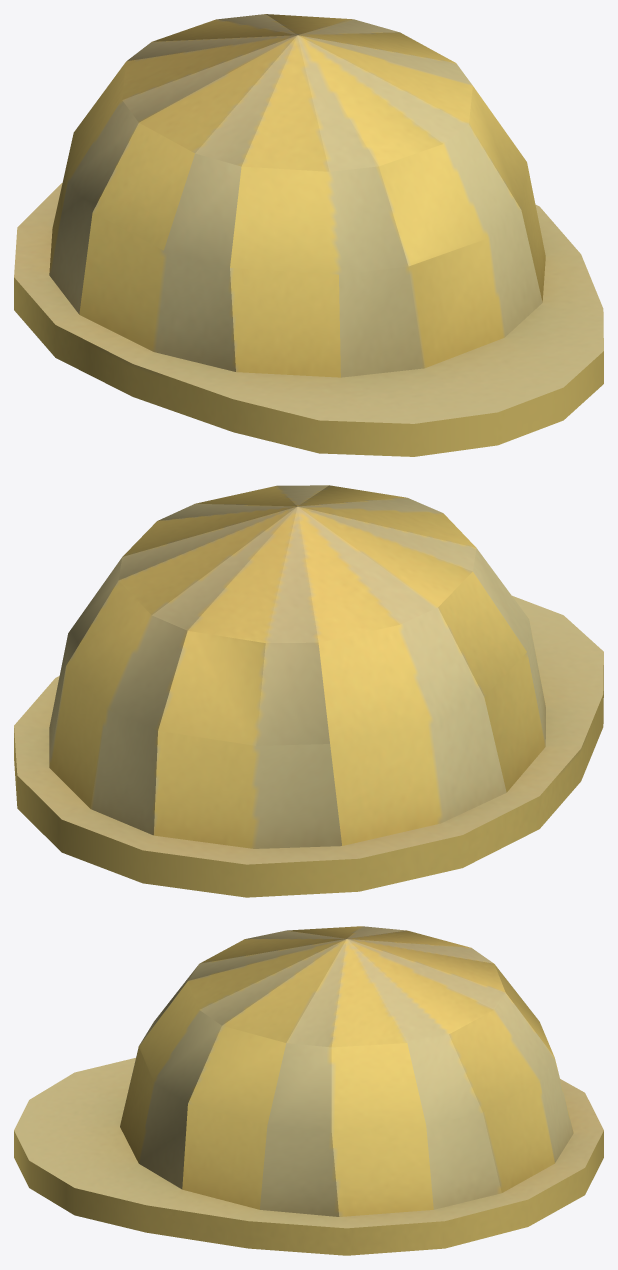
File: WorkHat.FBX
3 renders of one model, top to bottom at view 1: azimuth 30°, elevation 25°; view 2: azimuth 150°, elevation 25°; view 3: azimuth 270°, elevation 25°, orthographic. The views are drawn at different scales.
Parts seen in each view (by area): view 1: WorkHatLowpoly; view 2: WorkHatLowpoly; view 3: WorkHatLowpoly.
Boxes of the visible parts, x1,y1,x2,y2 form: WorkHatLowpoly: [14, 14, 603, 456]; WorkHatLowpoly: [14, 485, 603, 897]; WorkHatLowpoly: [14, 926, 603, 1255].
Bounding box in the file's own units: 234 × 297 × 122.
1 material, 1 textured.
